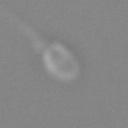normal: (1, 4, 48, 47)
